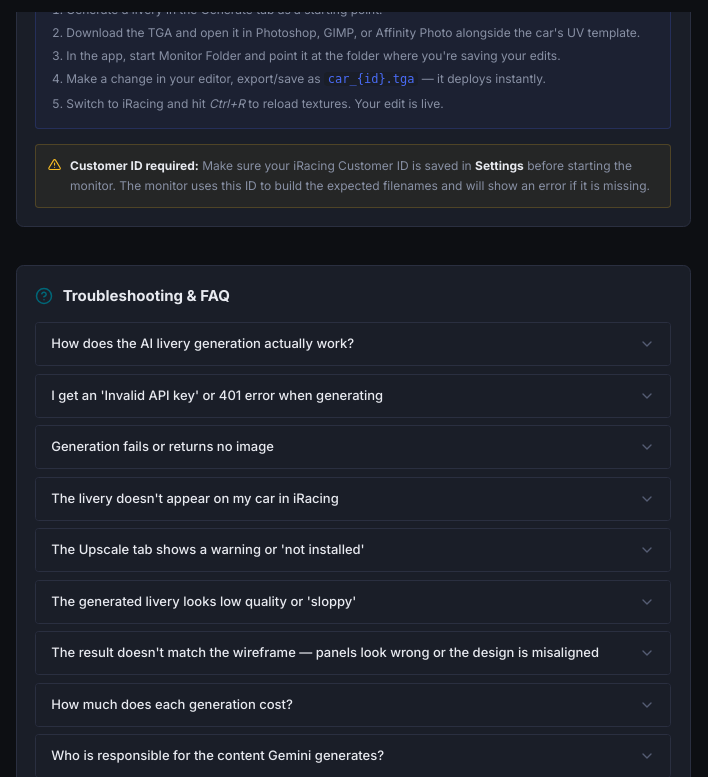
Test case: GettingStartedTab component › expands a FAQ item when clicked
The width and height of the screenshot is (708, 777).
(page scrolled)
Step 1. Click the button "I get an 'Invalid API key' or 401 error when generating" → (353, 396), box [36,375,670,417]
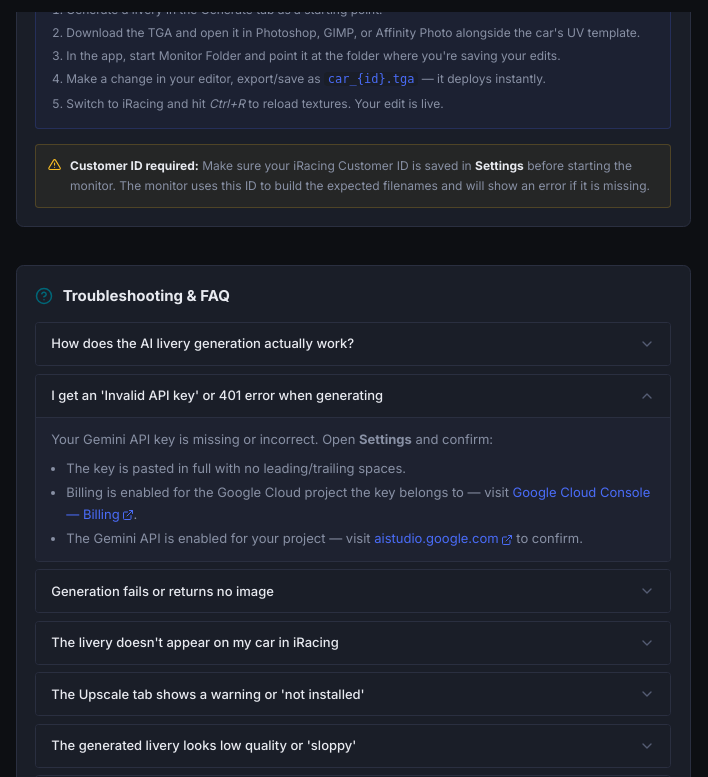
Now the list item "Billing is enabled" is shown, box [66,484,513,500]
